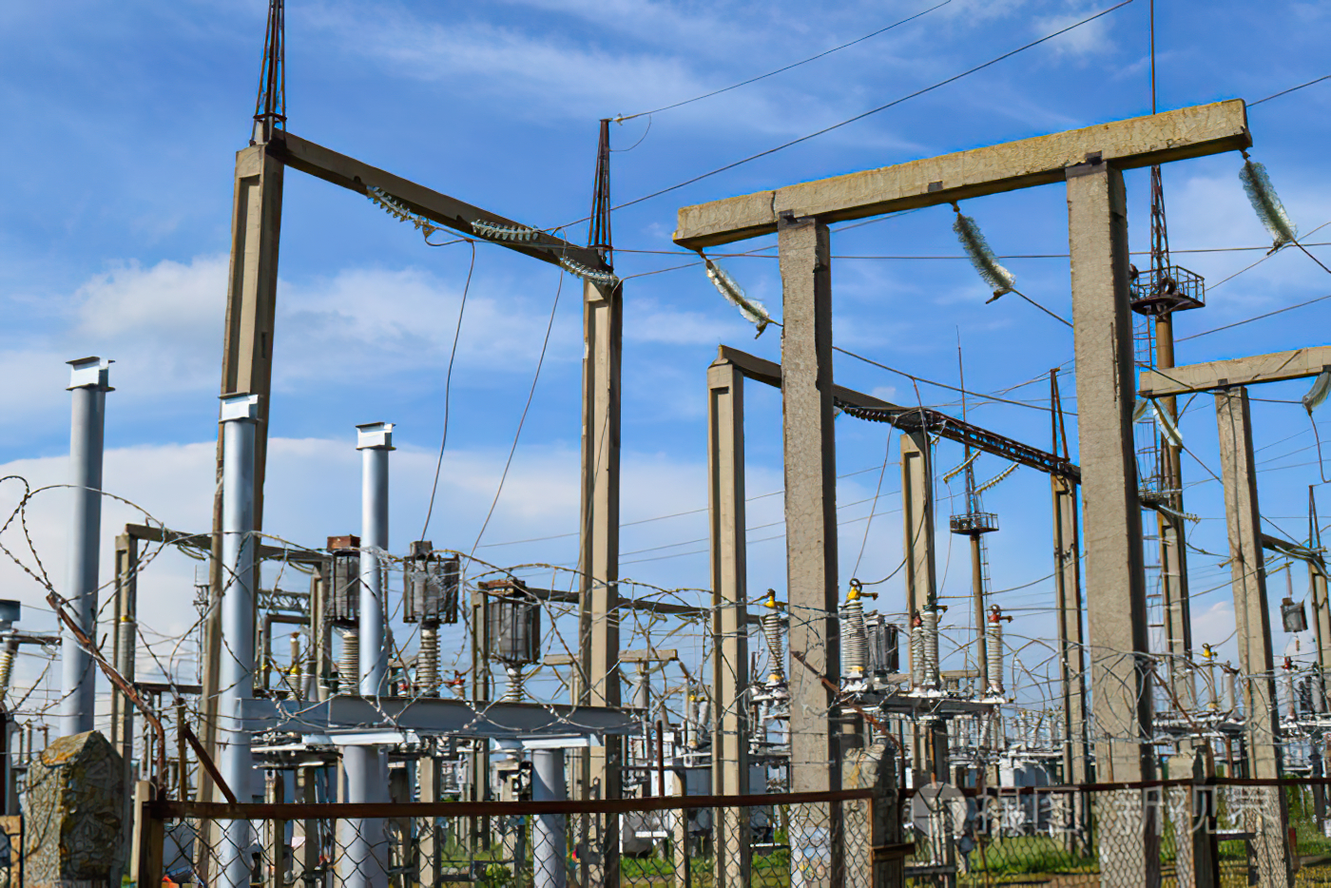insulator: (1235, 160, 1295, 249), (952, 216, 1013, 299), (701, 263, 768, 325), (360, 183, 426, 230), (467, 218, 544, 244), (557, 260, 625, 285)
